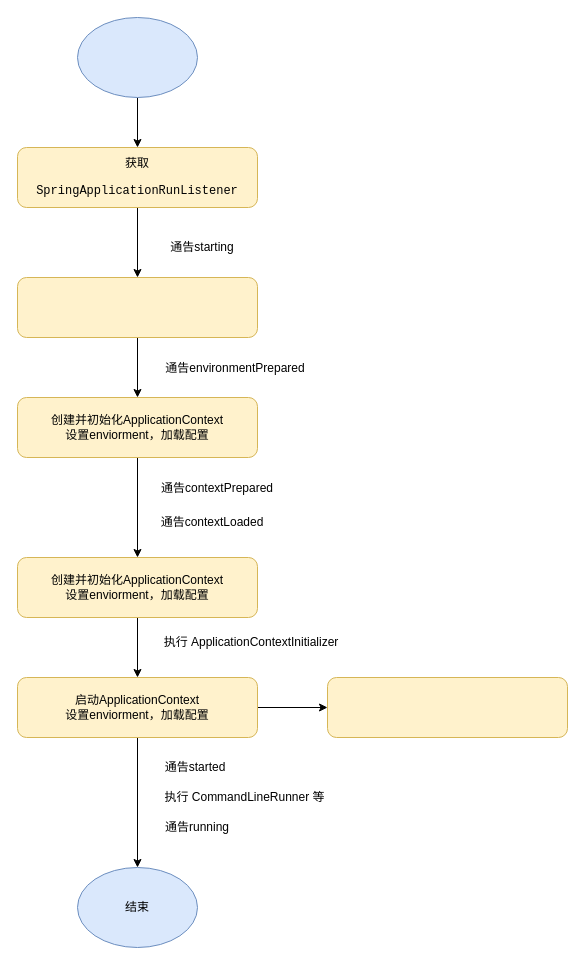
This 585x965 diagram has some shape labels left out. Here are the shapes that lost their labels. From the top down, the centre of each, then its label:
pixel 137 57: 开始
pixel 137 307: 创建并准备environment
pixel 447 707: 这一步会进行WebServer的创建与启动 DispatcherServlet的注册
